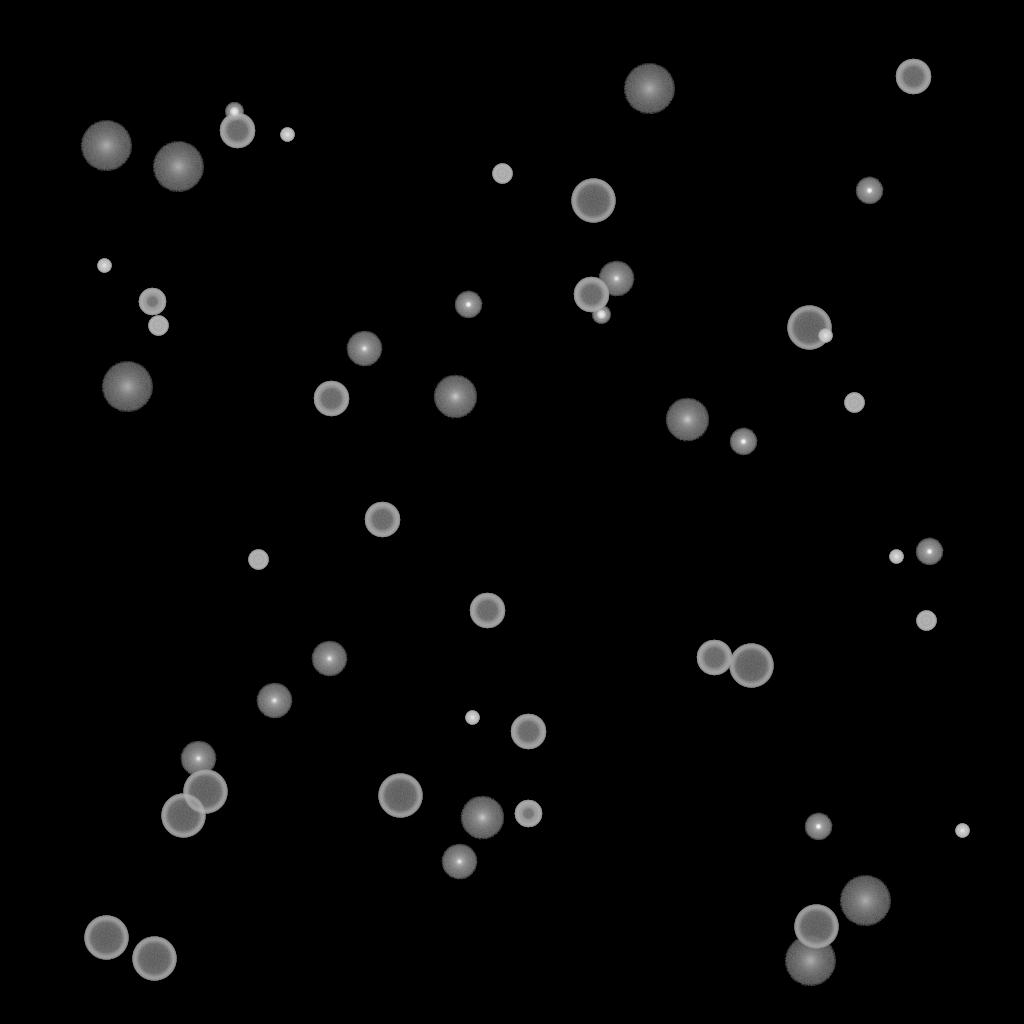depth:-10: (729, 428, 757, 456), (915, 538, 943, 566), (454, 291, 482, 319), (855, 177, 883, 205), (804, 813, 832, 841)
depth:-20: (592, 306, 610, 324), (225, 103, 243, 121)
depth:-30: (818, 329, 832, 343), (955, 824, 969, 838), (889, 550, 903, 564), (97, 259, 111, 273), (280, 128, 294, 142), (465, 711, 479, 725)
depth:-40: (844, 393, 864, 413), (916, 611, 936, 631), (492, 164, 512, 184), (148, 316, 168, 336), (248, 550, 268, 570)
depth:-50: (138, 288, 166, 316), (514, 800, 542, 828)
depth:-60: (696, 640, 732, 676), (895, 59, 931, 95), (573, 277, 609, 313), (364, 502, 400, 538), (219, 113, 255, 149), (510, 714, 546, 750), (469, 593, 505, 629), (313, 381, 349, 417)
depth:-70: (84, 916, 128, 960), (161, 794, 205, 838), (794, 905, 838, 949), (729, 644, 773, 688), (183, 770, 227, 814), (132, 937, 176, 981), (571, 179, 615, 223), (378, 774, 422, 818), (787, 306, 831, 350)
depth:0: (598, 261, 634, 297), (311, 641, 347, 677), (180, 741, 216, 777), (256, 683, 292, 719), (441, 844, 477, 880), (346, 331, 382, 367)
depth:10: (433, 375, 477, 419), (460, 796, 504, 840), (665, 398, 709, 442)
depth:20: (80, 121, 132, 171), (623, 64, 675, 114), (101, 362, 153, 412), (839, 876, 891, 926), (152, 142, 204, 192), (784, 936, 836, 986)
